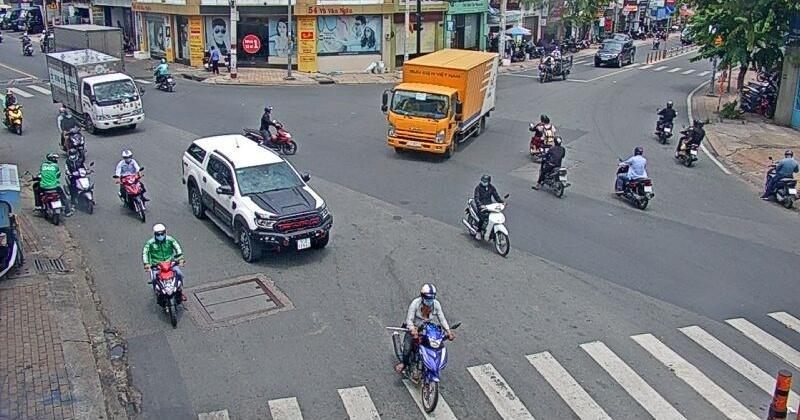xe hoi: (181, 136, 332, 262)
xe may: (389, 283, 457, 415), (139, 222, 186, 331), (459, 170, 515, 257), (111, 147, 150, 222), (243, 104, 296, 156), (614, 142, 649, 213), (62, 148, 97, 216), (31, 150, 63, 223), (762, 148, 800, 209), (533, 134, 568, 199), (674, 116, 707, 170), (55, 107, 85, 162), (536, 52, 573, 84), (653, 98, 677, 146), (0, 88, 24, 133), (152, 56, 174, 93)
xe tai: (383, 47, 497, 160), (44, 49, 145, 133)
